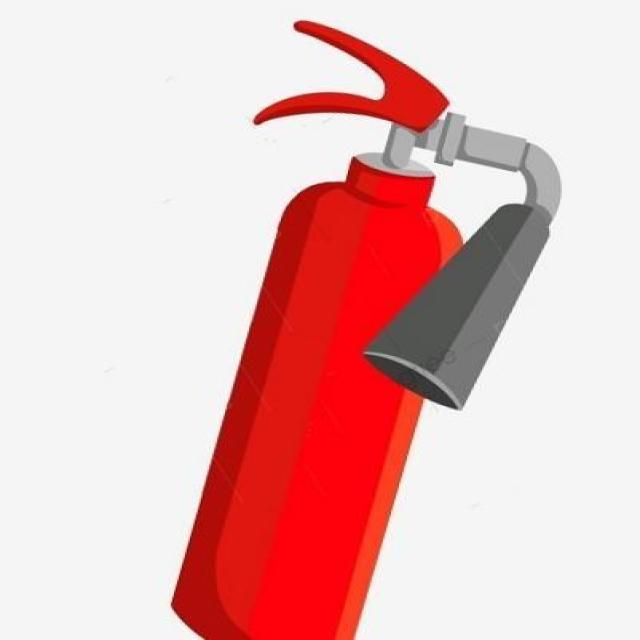fire_extinguisher: (163, 16, 570, 639)
